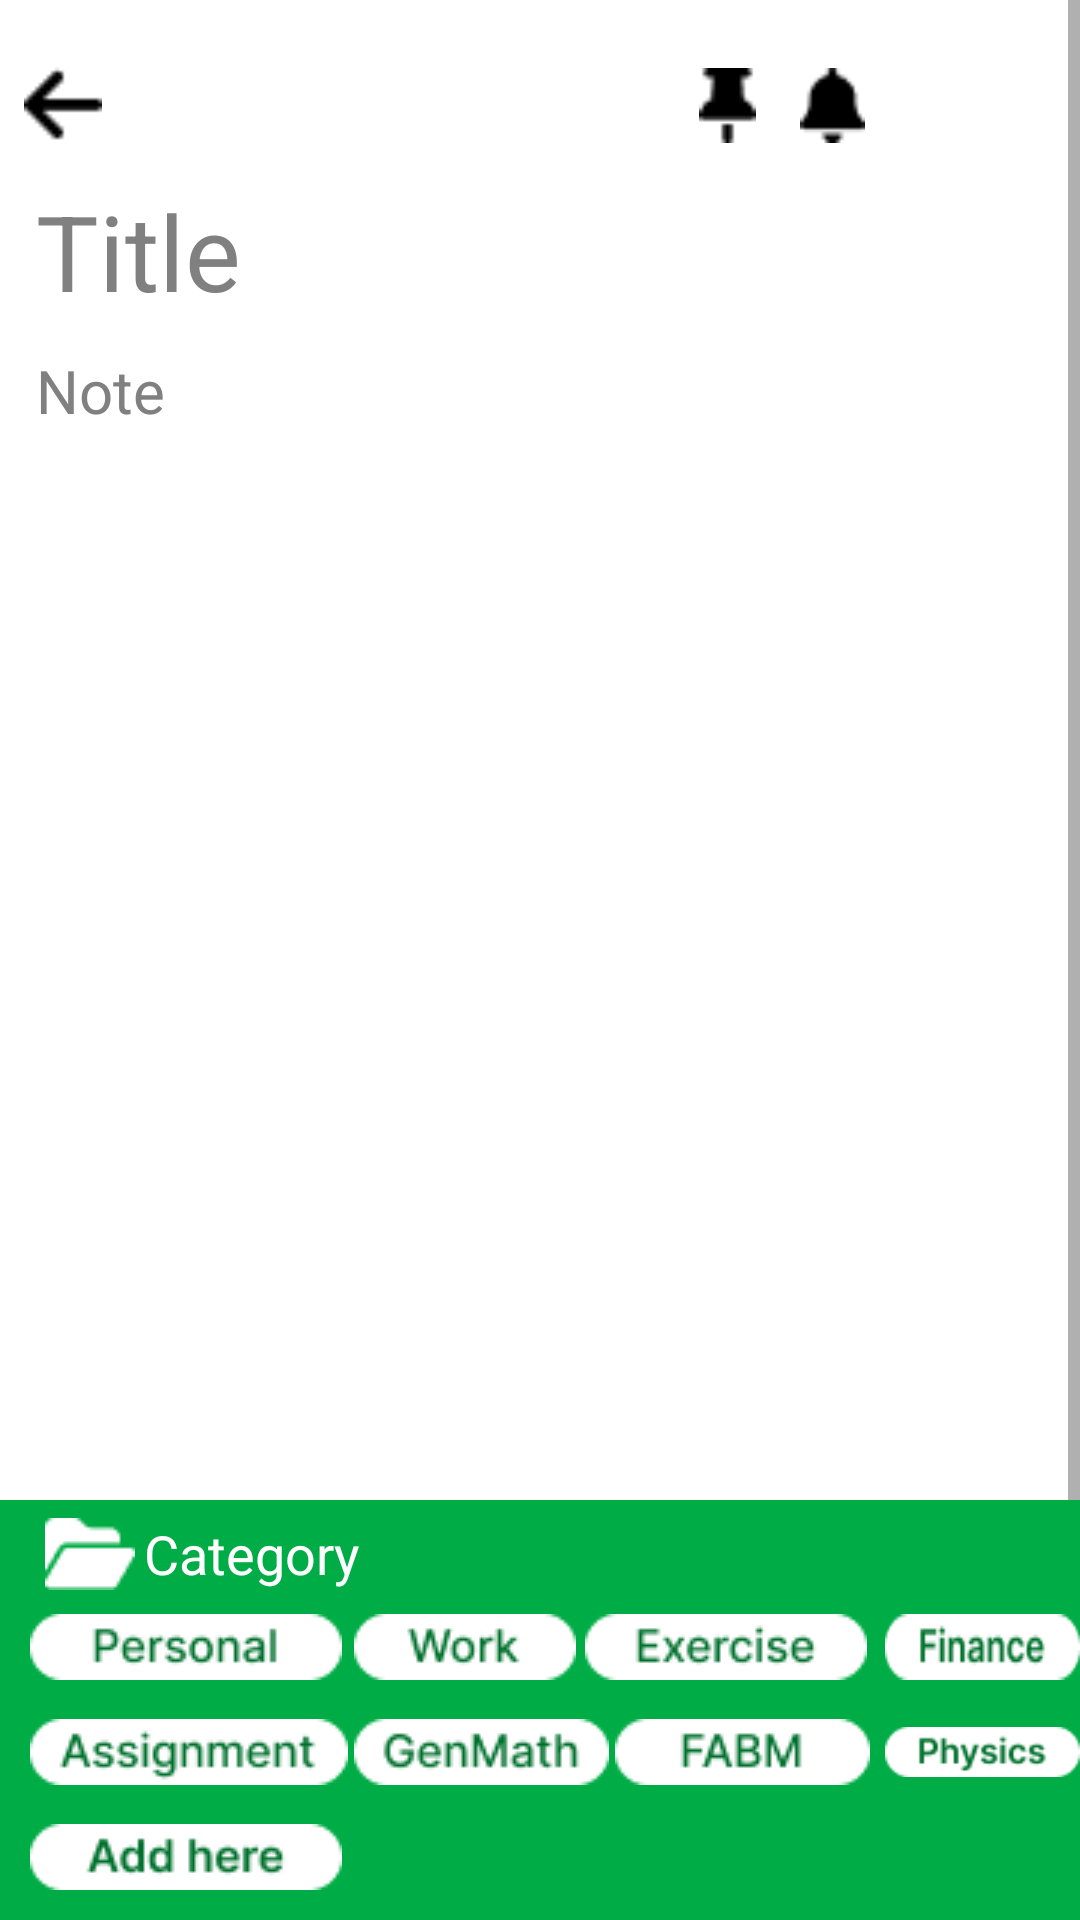

Icon click points for this 1080 × 1920 phone screenshot, format [x,y]:
arrow left: [63,104]
bell: [832,105]
pin: [727,105]
